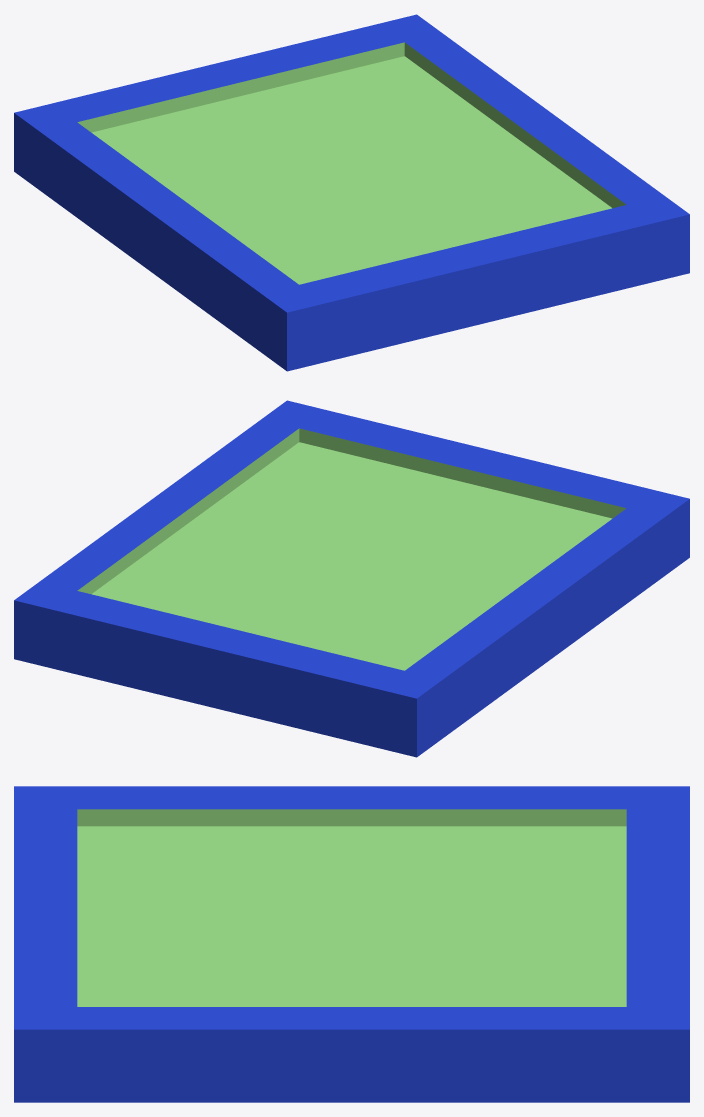
File: ground.glb
The picture shows the model from 3 angles, top to bottom: view 1: azimuth 30°, elevation 25°; view 2: azimuth 150°, elevation 25°; view 3: azimuth 270°, elevation 25°; orthographic projection. The views are drawn at different scales.
Parts seen in each view (by area): view 1: Cube; view 2: Cube; view 3: Cube.
Boxes of the visible parts, x1,y1,x2,y2 form: Cube: (14,14,689,371); Cube: (14,400,689,757); Cube: (14,786,689,1102).
Size of the model in its own units: 14.33 by 2 by 16.82.
